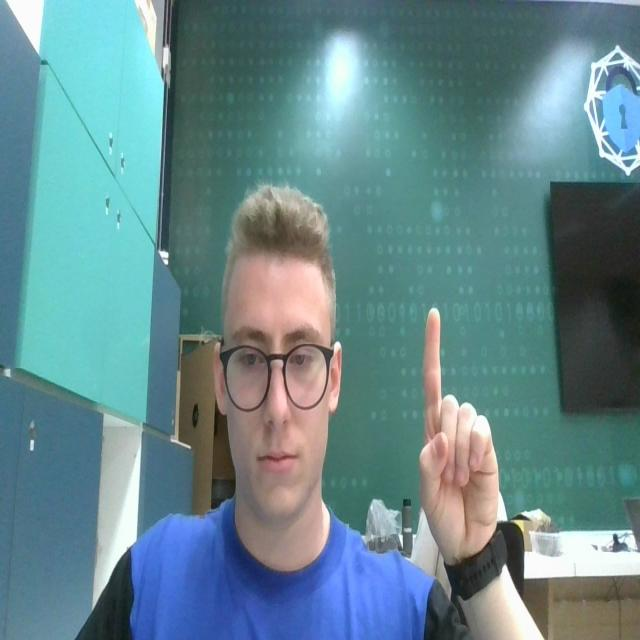D2: (419, 298, 501, 546)
